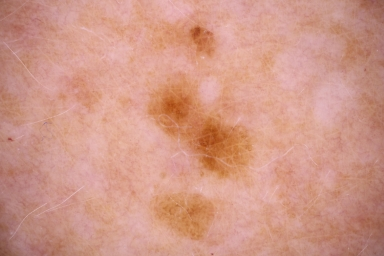melanoma: (192, 117, 252, 178), (150, 78, 197, 133), (156, 193, 211, 237), (190, 30, 216, 58)
